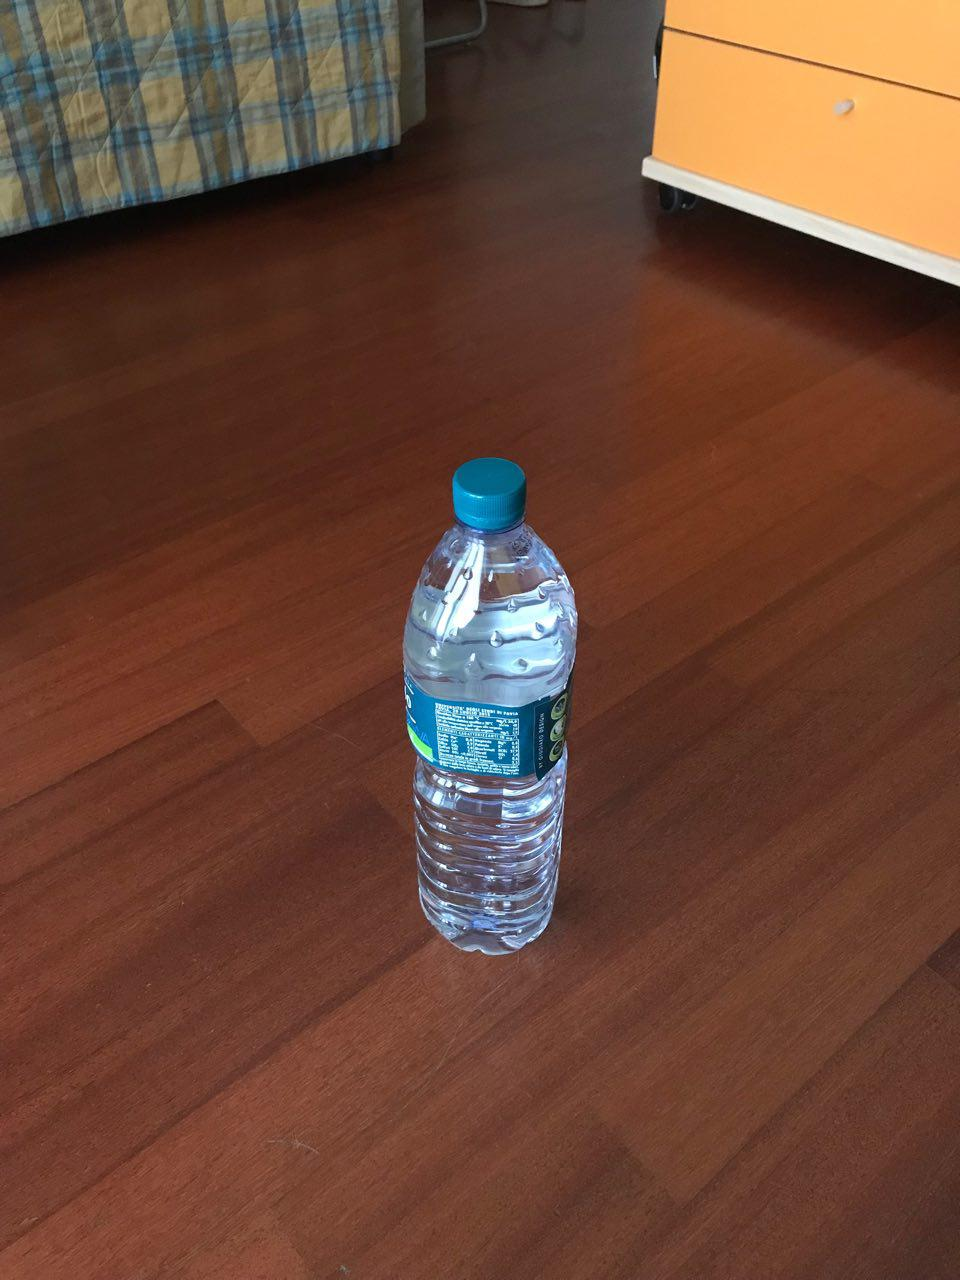san_bernardo: (400, 454, 579, 957)
